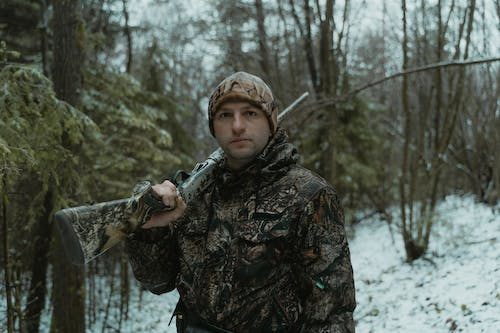gun: (53, 89, 310, 267)
